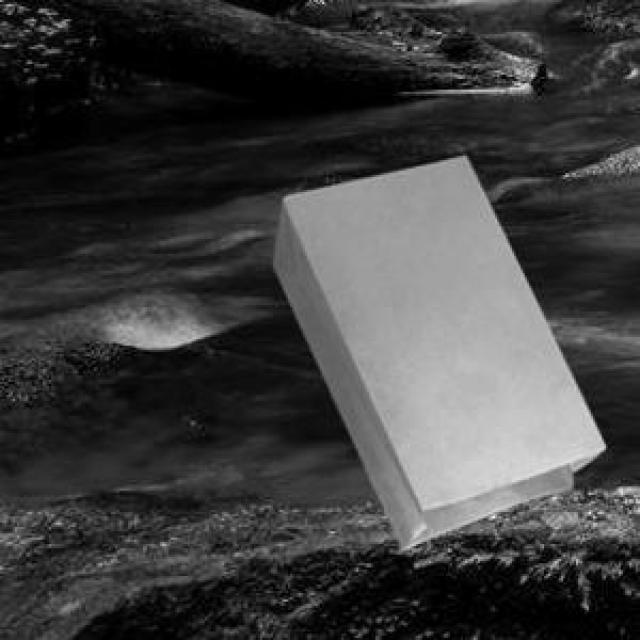paper: (269, 152, 602, 546)
